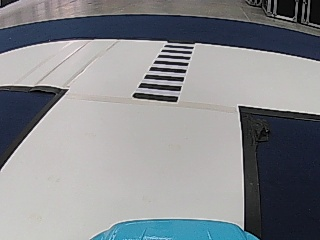CrossWalk: (132, 44, 196, 100)
